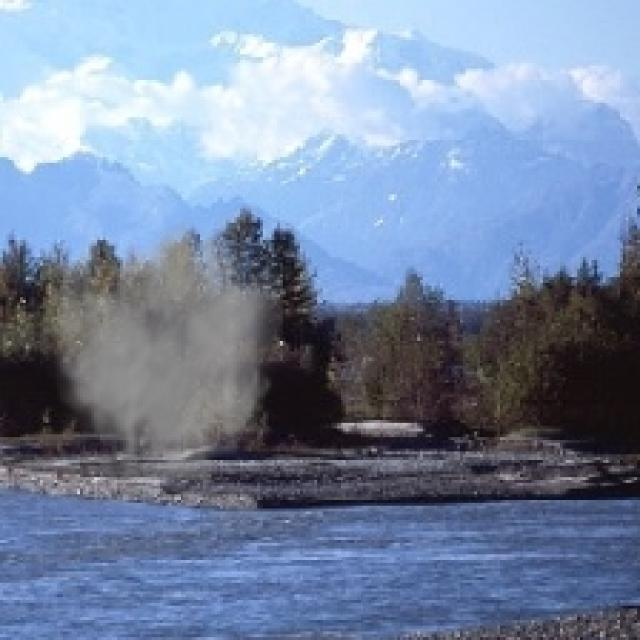smoke: (34, 217, 283, 500)
